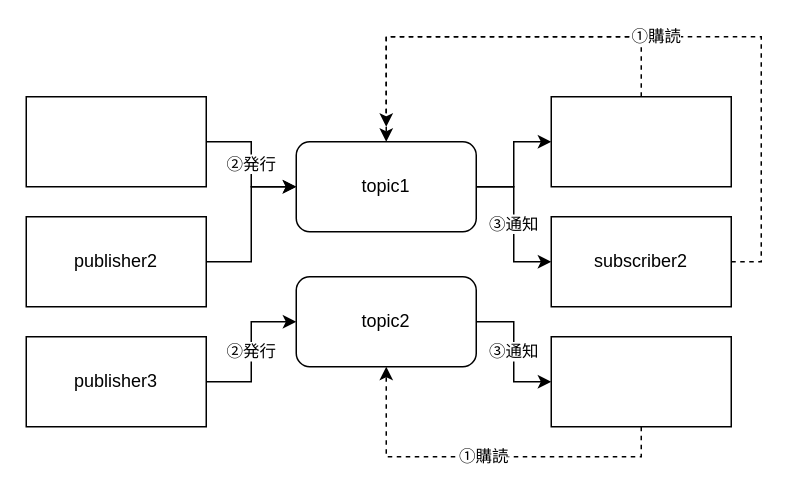
Some shapes in this 800 by 495 pixel diagram are drawn without their labels. The shapes that lost their labels are listed below. From the top down, each one's centre as x and y in pixels, then its label:
At point (115, 141): "publisher1".
At point (640, 141): "subscriber1".
At point (640, 381): "subscriber3".
